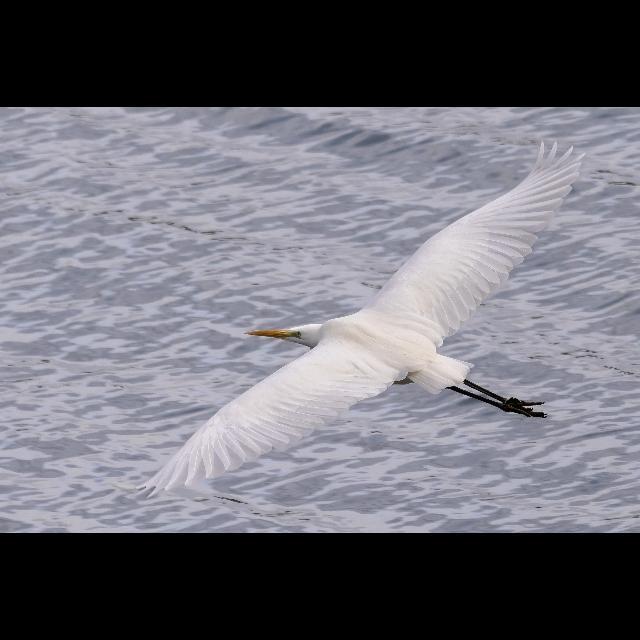egret: (170, 154, 572, 482)
